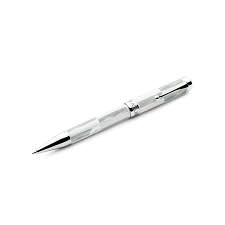qillqana: (29, 74, 196, 154)
